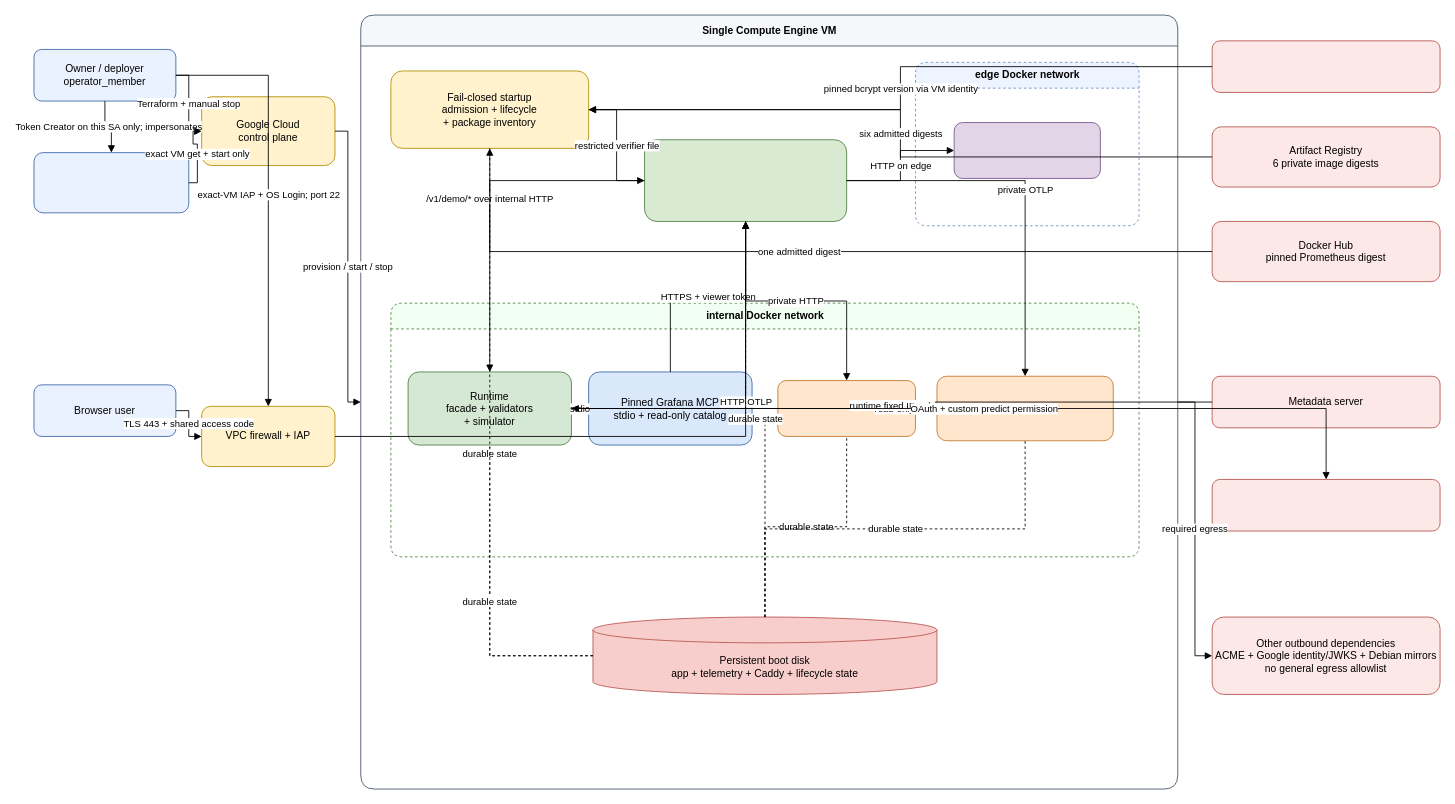
Image size: 1455x804. Some labels were removed from this diagram. The shapes that lost their labels are listed below. From the top down, each one's centre as x and y in pixels, then its label:
At [1325,66]: "Secret Manager".
At [1026,150]: "Web UI".
At [111,182]: "Resume service account resume_member".
At [745,180]: "Caddy TLS 443 + Basic auth edge ↔ internal bridge".
At [846,408]: "Grafana".
At [1024,408]: "Prometheus + Loki + Tempo".
At [1325,505]: "Vertex AI".
